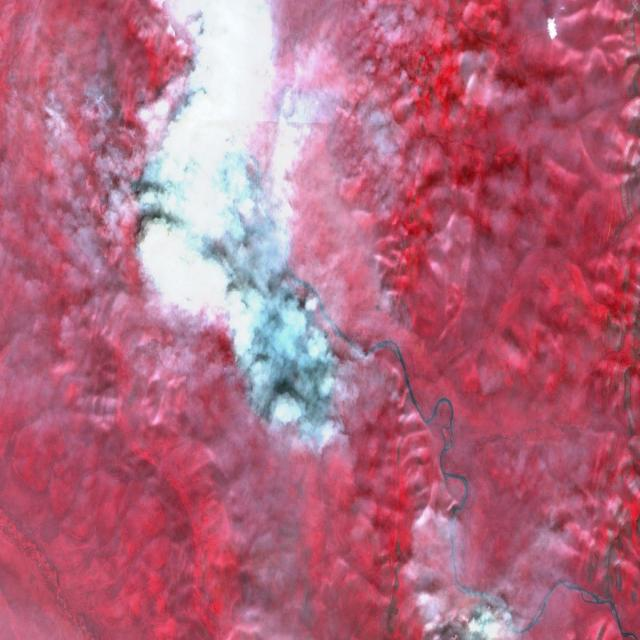fire: (134, 215, 342, 447)
